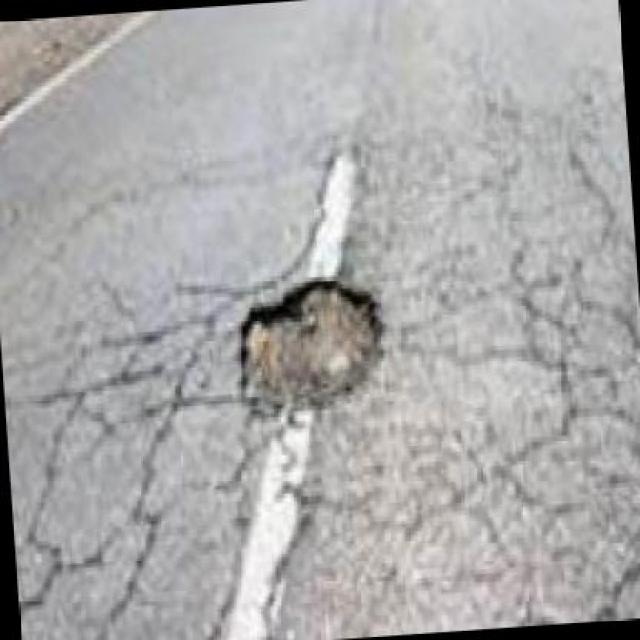pothole1: (227, 268, 391, 424)
